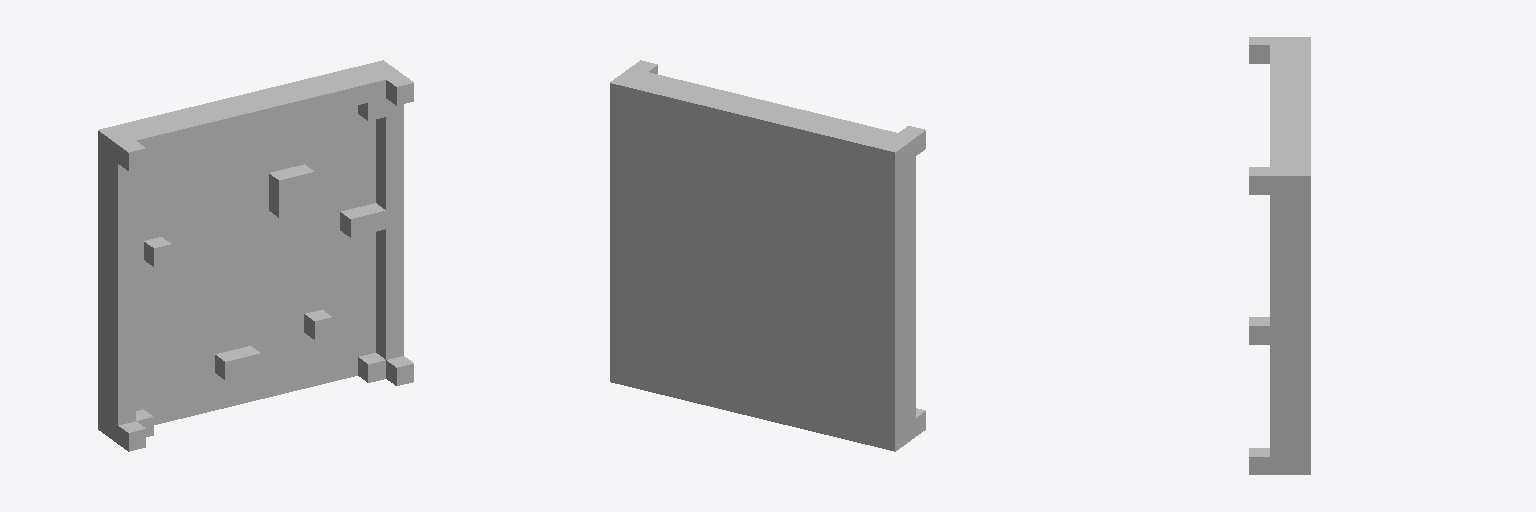
The model's file is holeBlue.obj.
The picture shows the model from 3 angles: view 1: azimuth 30°, elevation 25°; view 2: azimuth 150°, elevation 25°; view 3: azimuth 270°, elevation 25°; orthographic projection.
Parts seen in each view (by area): view 1: object 1; view 2: object 1; view 3: object 1.
Boxes of the visible parts, x1,y1,x2,y2 form: object 1: [98, 60, 413, 451]; object 1: [610, 60, 925, 451]; object 1: [1249, 37, 1310, 474].
Size of the model in its own units: 1.6 by 1.6 by 0.3.